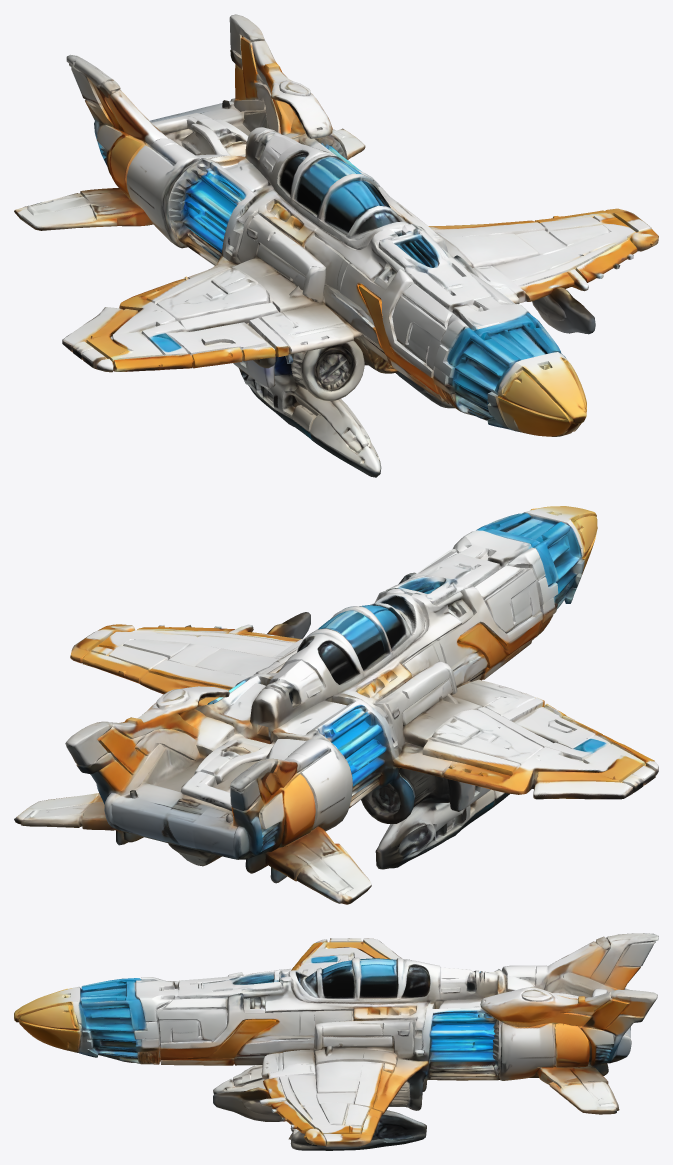
Rendered from courier2.glb.
3 views of the same model, one above another, from view 1: azimuth 30°, elevation 25°; view 2: azimuth 150°, elevation 25°; view 3: azimuth 270°, elevation 25° (orthographic). The views are drawn at different scales.
Parts seen in each view (by area): view 1: model; view 2: model; view 3: model.
Part boxes in pixels (box(x1,y1,x2,y2)): model: box(14, 14, 658, 477); model: box(14, 506, 658, 904); model: box(14, 933, 658, 1150).
Bounding box in the file's own units: 1.42 × 0.5429 × 1.9.
1 material, 1 textured.
